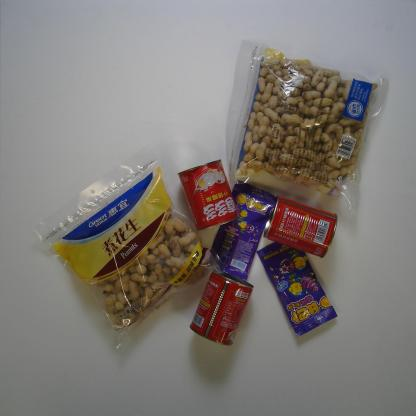Candy: (256, 235, 338, 338), (208, 179, 277, 281)
Canned Food: (189, 268, 254, 346), (263, 195, 338, 259), (178, 158, 240, 232)
Dried Food: (33, 146, 226, 352), (222, 38, 390, 211)
